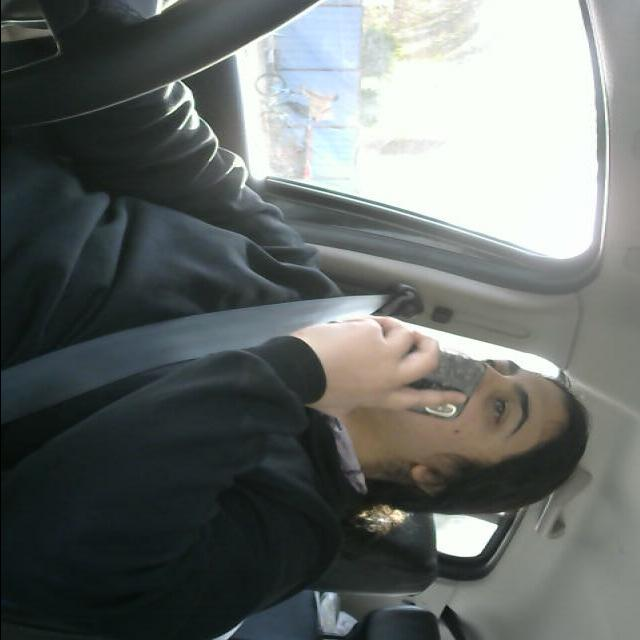mobile use: (333, 320, 485, 420)
